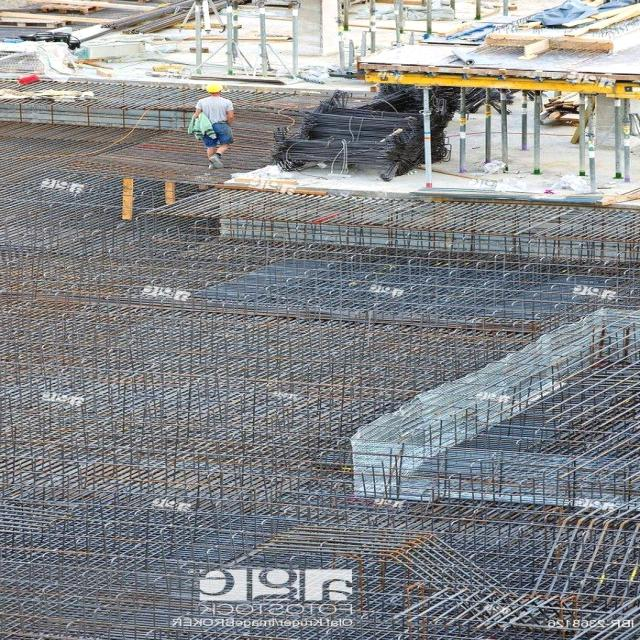head_helmet: (204, 82, 223, 94)
person: (190, 78, 235, 166)
shoes: (208, 154, 228, 169)
